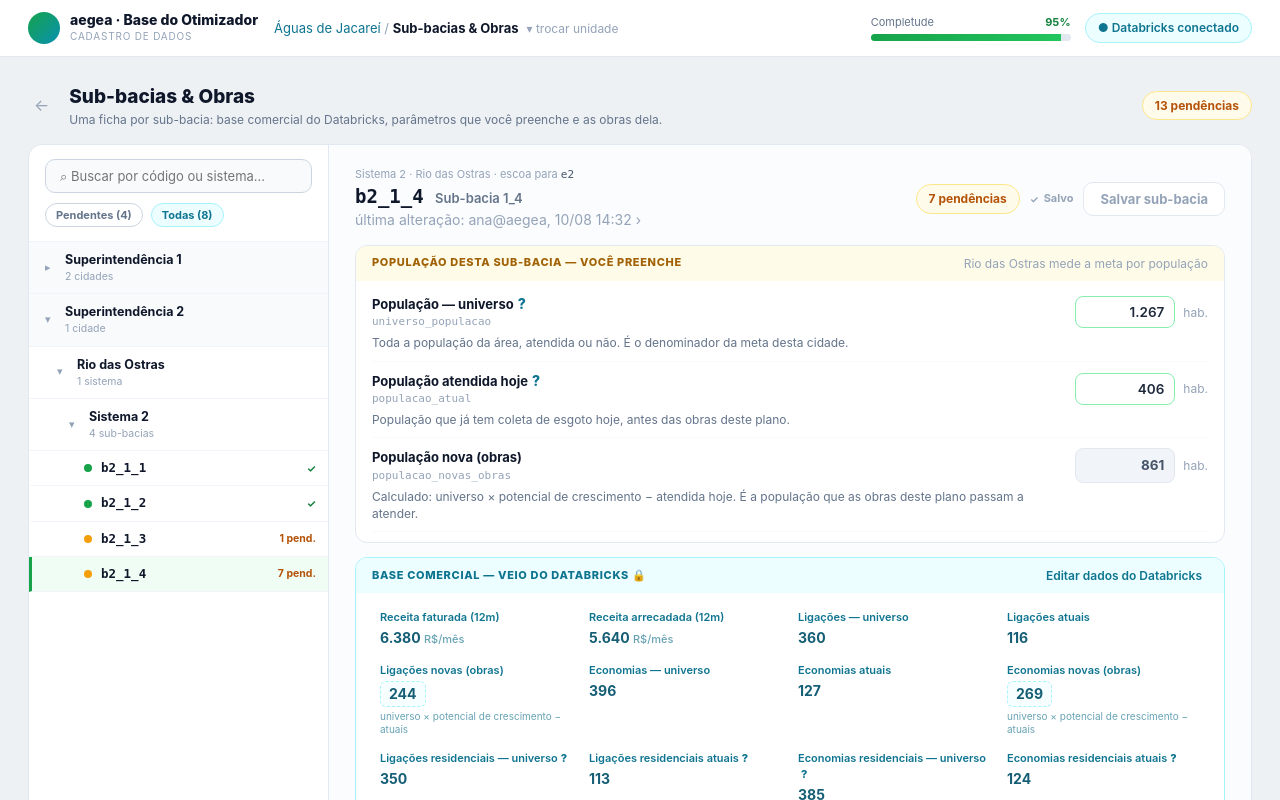
Test: o que o painel mostra › separa CORRIGIU de ALTEROU — é a distinção que a auditoria existe para fazer
This screenshot has width=1280, height=800.
Expected: the button "Salvar sub-bacia" is shown, [1084, 182, 1225, 216]
Click the button "última alteração: ana@aegea, 10/08 14:32 ›". click: (498, 221)
box: [355, 210, 641, 231]
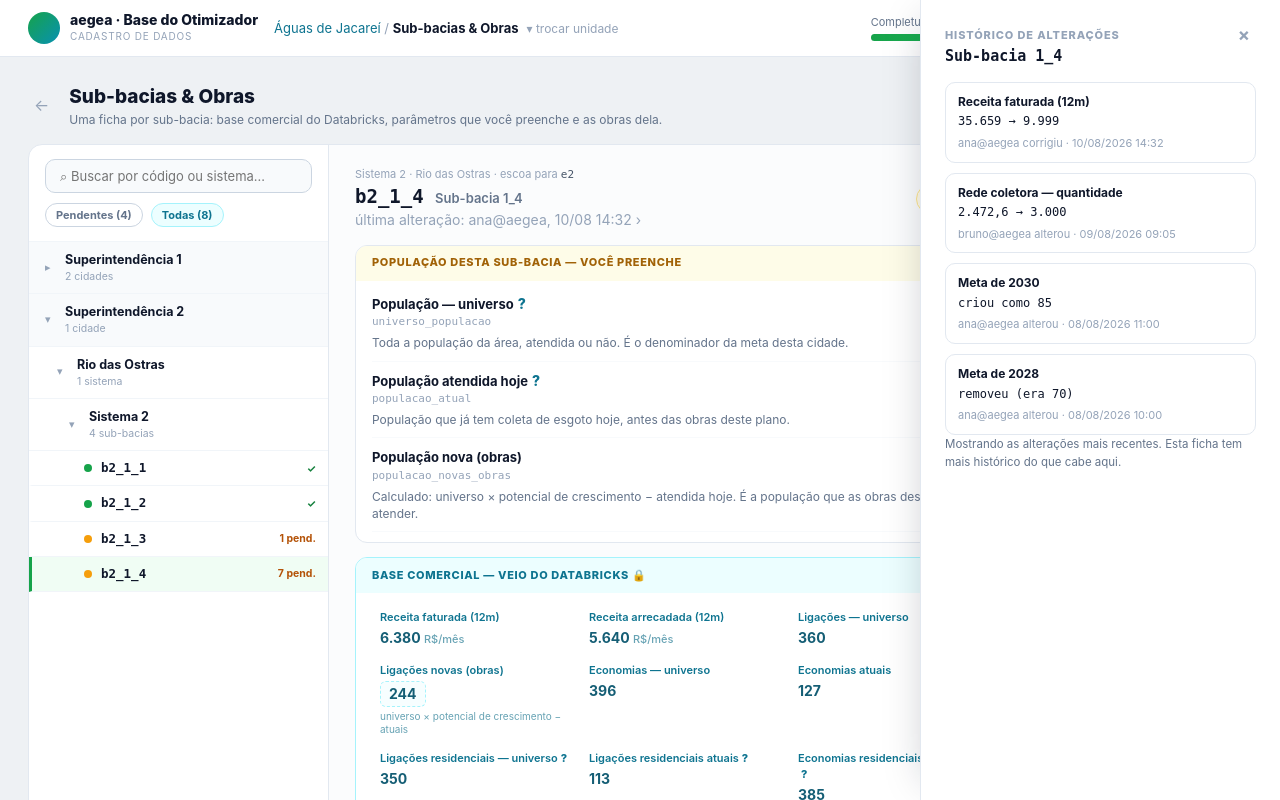
Expected: the element "Histórico de alterações" shows "ana@aegea corrigiu", [920, 0, 1279, 799]
Expected: the element "Histórico de alterações" shows "bruno@aegea alterou", [920, 0, 1279, 799]
